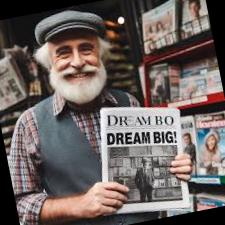Kertas: (99, 107, 190, 212)
